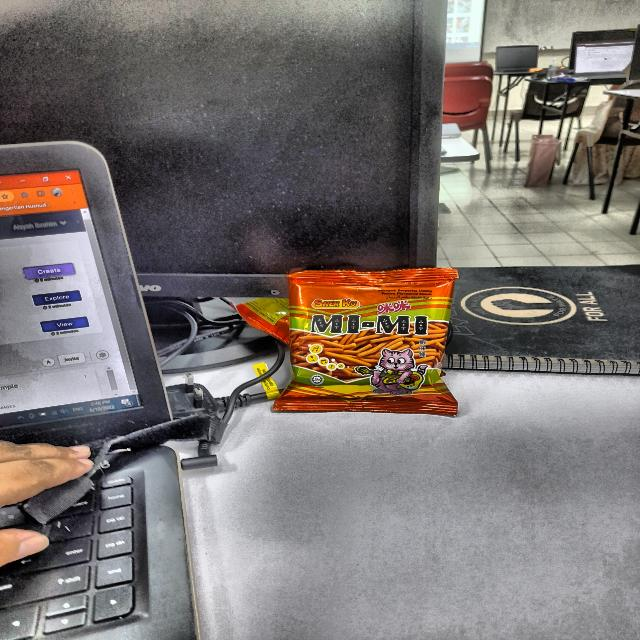Plastic: (282, 266, 474, 414)
